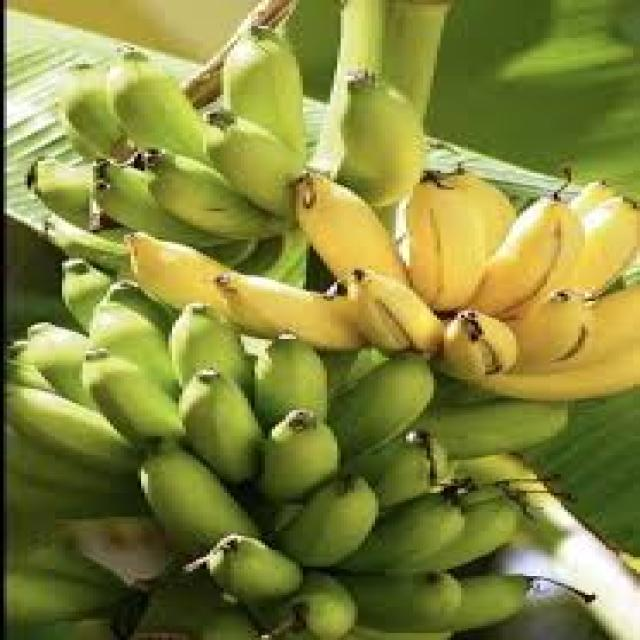Banana: (4, 262, 573, 634), (133, 174, 638, 402), (28, 25, 422, 246)
